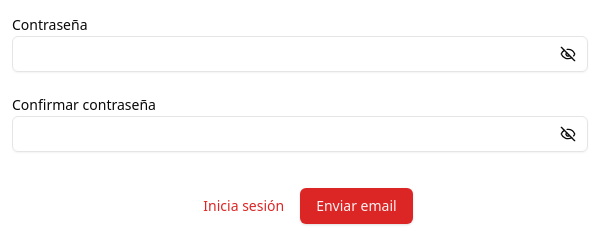
Test case: RecoveryForm › shows validation error for non-matching passwords
The width and height of the screenshot is (606, 242).
Type "password123" into the password field labelled "Contraseña" at [300, 54], box [12, 36, 588, 72]
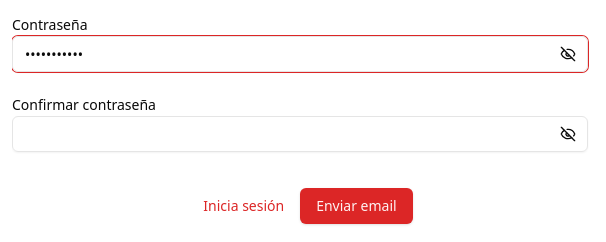
Type "differentpassword" into the password field labelled "Confirmar contraseña" at [300, 134], box [12, 116, 588, 152]
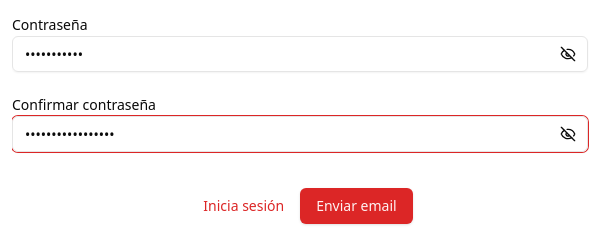
Click the button "Enviar email" at [356, 206], box [300, 188, 413, 224]
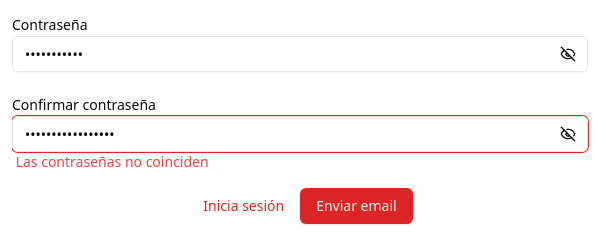
expect the text "Las contraseñas no coinciden" is shown: met, box [16, 152, 209, 171]
